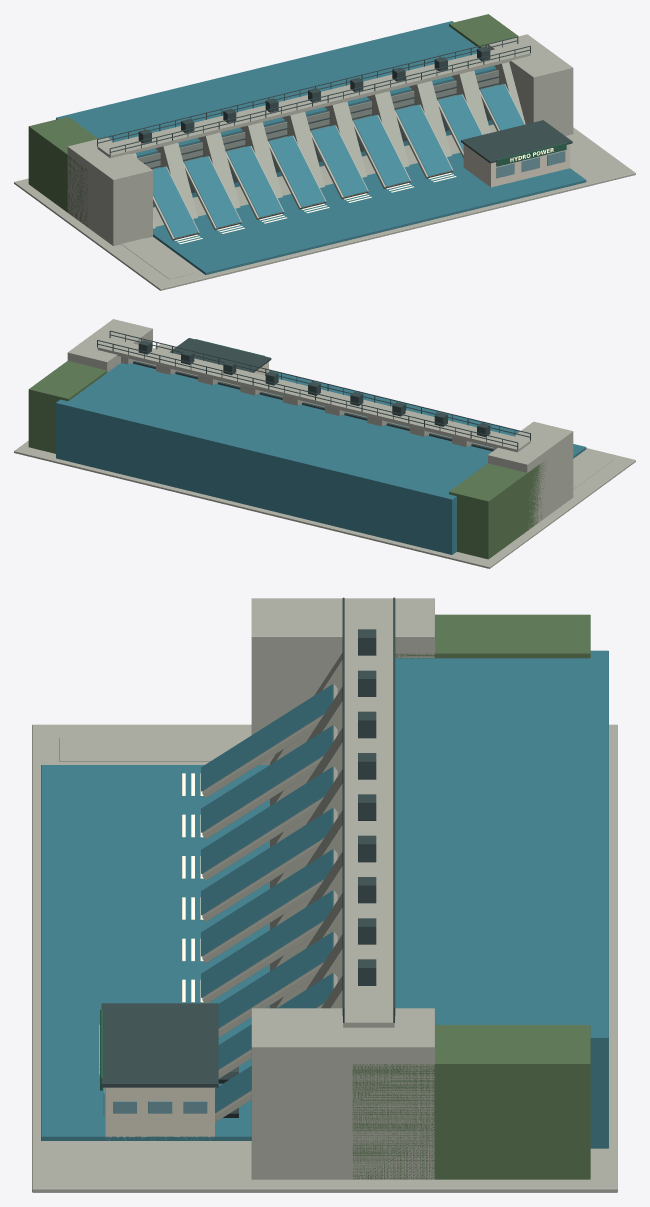
Rendered from power-hydro.glb.
3 views of the same model, one above another, from view 1: azimuth 30°, elevation 25°; view 2: azimuth 150°, elevation 25°; view 3: azimuth 270°, elevation 25° (orthographic). The views are drawn at different scales.
Parts seen in each view (by area): view 1: DownstreamRiver, UpstreamReservoir, PresentationBase, RockAbutment, DamCrestRoad, RockAbutment.001, BankGrass, PowerhouseRoof, SpillWater.001, SpillWater.003, SpillWater.002, SpillWater.004 (+28 smaller); view 2: UpstreamReservoir, BankGrass, DamCrestRoad, PresentationBase, RockAbutment, BankGrass.001, RockAbutment.001, PowerhouseRoof, DownstreamRiver, AccessRoad, CrestGuardrail.001, CrestGuardrail.003 (+2 smaller); view 3: UpstreamReservoir, DownstreamRiver, BankGrass.001, RockAbutment.001, PresentationBase, DamCrestRoad, RockAbutment, PowerhouseRoof, BankGrass, Powerhouse, AccessRoad, SpillWater.002 (+23 smaller).
Boxes of the visible parts, x1,y1,x2,y2 form: DownstreamRiver: (153,152,586,274); UpstreamReservoir: (56,21,496,207); PresentationBase: (14,124,635,290); RockAbutment: (67,137,152,245); DamCrestRoad: (97,44,530,158); RockAbutment.001: (488,34,573,135); BankGrass: (28,116,97,226); PowerhouseRoof: (461,120,572,163); SpillWater.001: (184,156,240,227); SpillWater.003: (268,135,325,207); SpillWater.002: (226,146,283,217); SpillWater.004: (311,125,367,196); UpstreamReservoir: (56,363,492,554); BankGrass: (449,461,545,559); DamCrestRoad: (97,338,530,452); PresentationBase: (14,344,635,568); RockAbutment: (488,421,573,528); BankGrass.001: (28,361,110,453); RockAbutment.001: (67,319,152,372); PowerhouseRoof: (169,338,271,372); DownstreamRiver: (267,370,586,458); AccessRoad: (573,454,613,489); CrestGuardrail.001: (110,330,530,433); CrestGuardrail.003: (97,340,517,443); UpstreamReservoir: (395,650,608,1148); DownstreamRiver: (41,765,269,1140); BankGrass.001: (352,1025,590,1179); RockAbutment.001: (251,1008,434,1179); PresentationBase: (32,724,617,1192); DamCrestRoad: (343,612,394,1027); RockAbutment: (251,598,434,764); PowerhouseRoof: (101,1003,218,1087); BankGrass: (395,614,590,658); Powerhouse: (105,1087,214,1140); AccessRoad: (59,737,247,761); SpillWater.002: (201,766,333,873).
Size of the model in its own units: 60 by 9.77 by 32.
